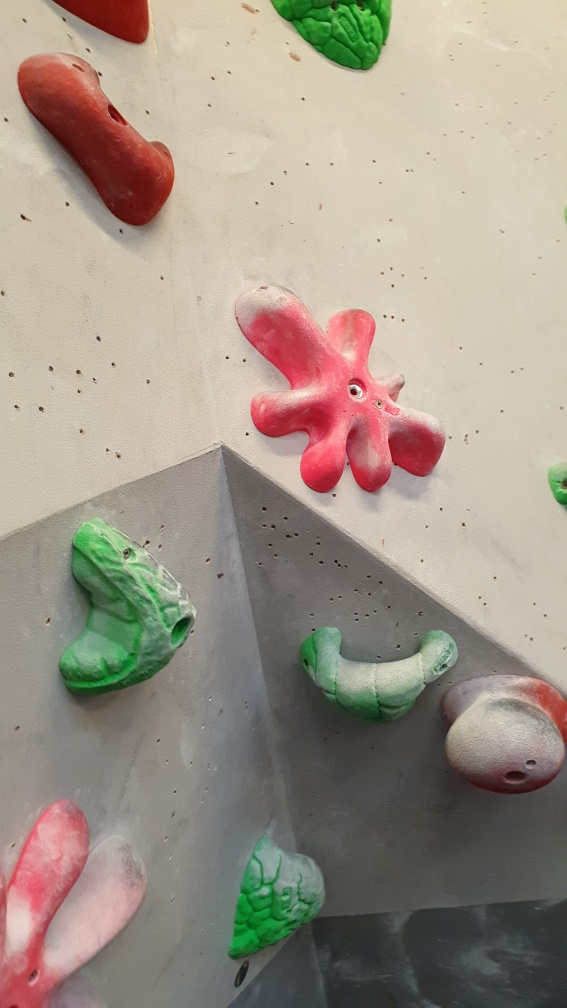Hand Start: (232, 962, 251, 989)
Jug: (301, 618, 459, 728), (226, 835, 323, 962)
Octopus Pinch: (234, 279, 446, 499), (1, 795, 152, 1007)
Sloper: (441, 683, 564, 794)
